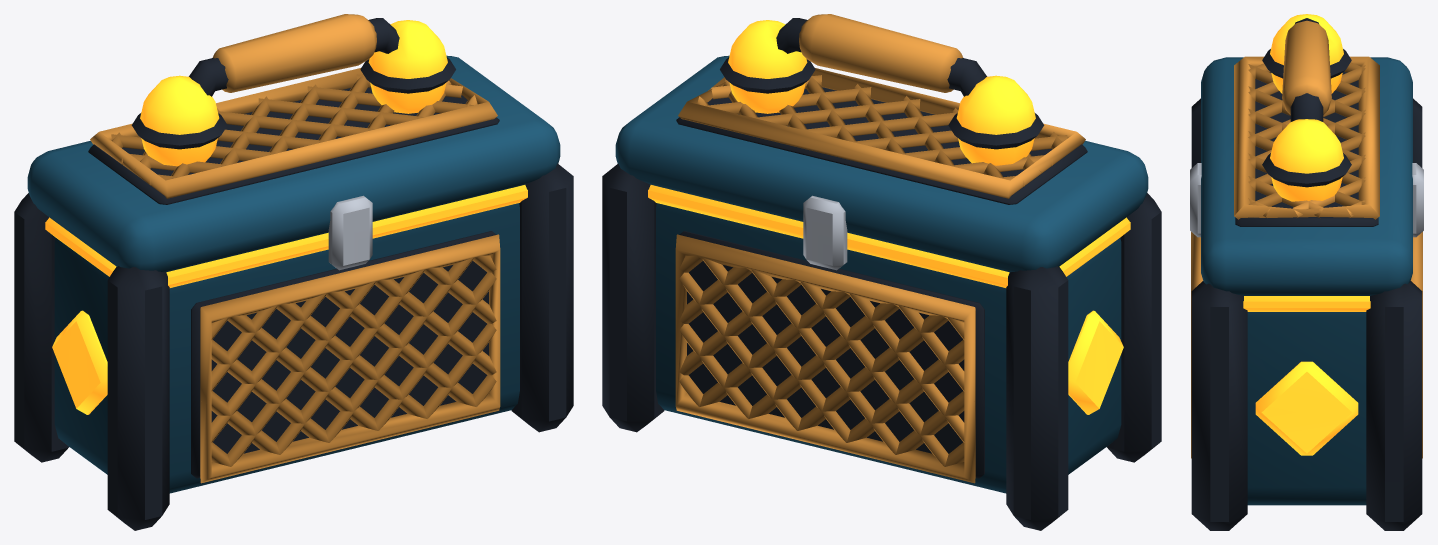
The model's file is net-pack.glb.
The picture shows the model from 3 angles, left to right: view 1: azimuth 30°, elevation 25°; view 2: azimuth 150°, elevation 25°; view 3: azimuth 270°, elevation 25°; orthographic projection. The views are drawn at different scales.
Parts seen in each view (by area): view 1: Net pack Net braided cord, Net pack Harness charcoal, Net pack Net case teal, Net pack Net case glow, Net pack Latch alloy; view 2: Net pack Net braided cord, Net pack Harness charcoal, Net pack Net case teal, Net pack Net case glow, Net pack Latch alloy; view 3: Net pack Net case teal, Net pack Harness charcoal, Net pack Net braided cord, Net pack Net case glow, Net pack Latch alloy.
Boxes of the visible parts, box(x1,y1,x2,y2) form: Net pack Net braided cord: box(90, 14, 500, 483); Net pack Harness charcoal: box(14, 18, 573, 530); Net pack Net case teal: box(27, 55, 560, 493); Net pack Net case glow: box(45, 20, 527, 414); Net pack Latch alloy: box(328, 195, 372, 270); Net pack Net braided cord: box(675, 14, 1085, 483); Net pack Harness charcoal: box(602, 18, 1161, 530); Net pack Net case teal: box(615, 55, 1148, 493); Net pack Net case glow: box(648, 20, 1130, 414); Net pack Latch alloy: box(803, 195, 847, 270); Net pack Net case teal: box(1201, 57, 1412, 505); Net pack Harness charcoal: box(1191, 18, 1422, 530); Net pack Net braided cord: box(1191, 20, 1422, 458); Net pack Net case glow: box(1243, 14, 1370, 455); Net pack Latch alloy: box(1190, 163, 1423, 237).
Size of the model in its own units: 0.79 by 0.682 by 0.375.
